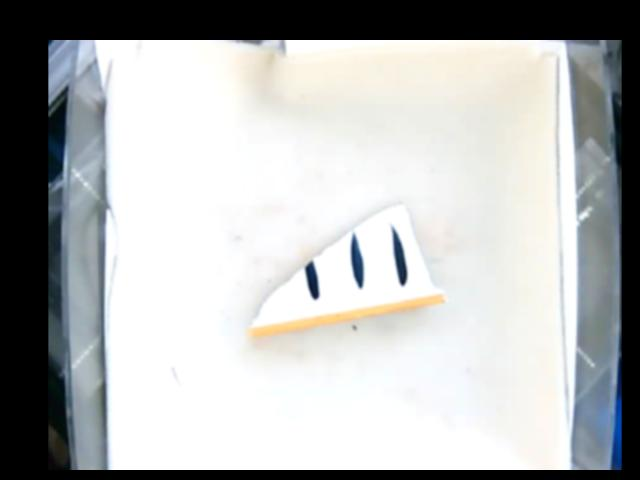China: (242, 202, 446, 337)
